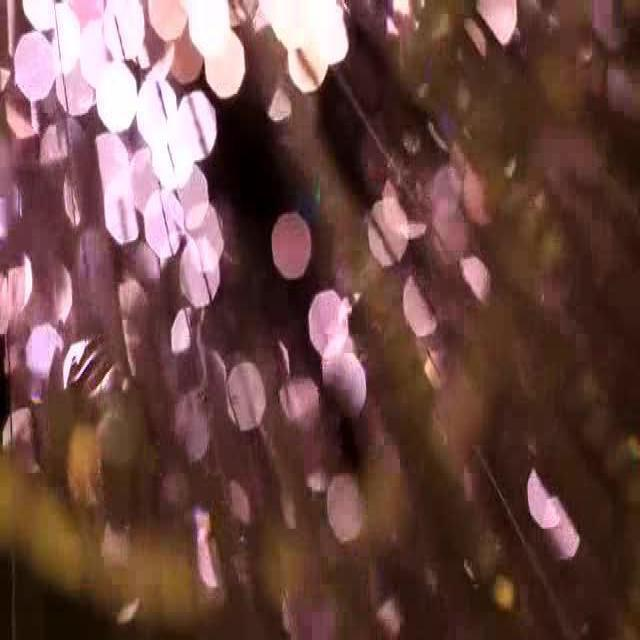other: (2, 0, 495, 497)
